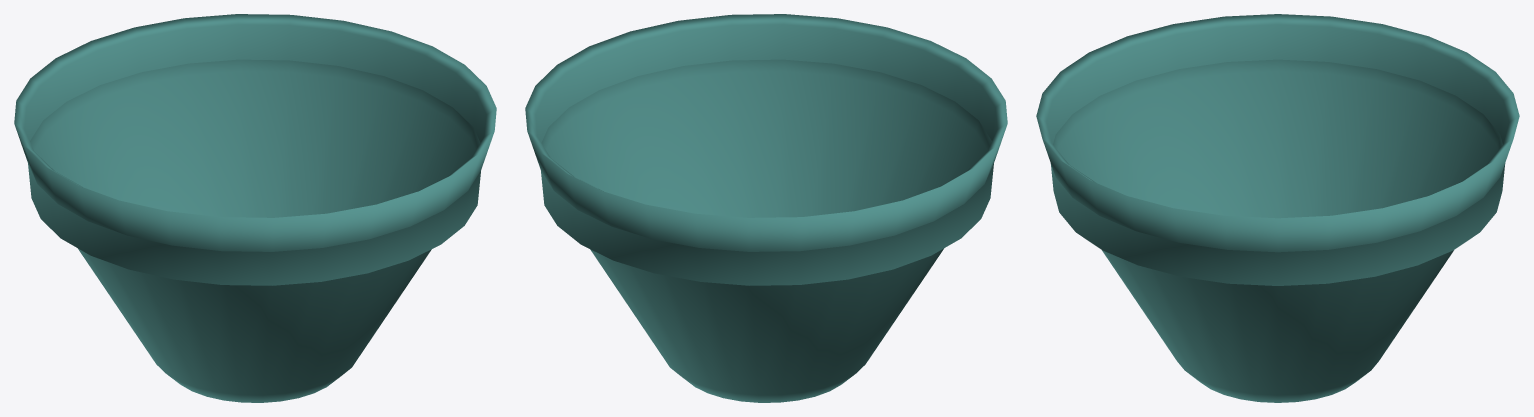
The model's file is i_vase_9_1.glb.
The picture shows the model from 3 angles, left to right: view 1: azimuth 30°, elevation 25°; view 2: azimuth 150°, elevation 25°; view 3: azimuth 270°, elevation 25°; orthographic projection.
Parts seen in each view (by area): view 1: o; view 2: o; view 3: o.
Part boxes in pixels (x1,y1,x2,y2): o: (14,14,496,402); o: (525,14,1007,402); o: (1036,14,1519,402).
Bounding box in the file's own units: 0.28 × 0.16 × 0.28.
